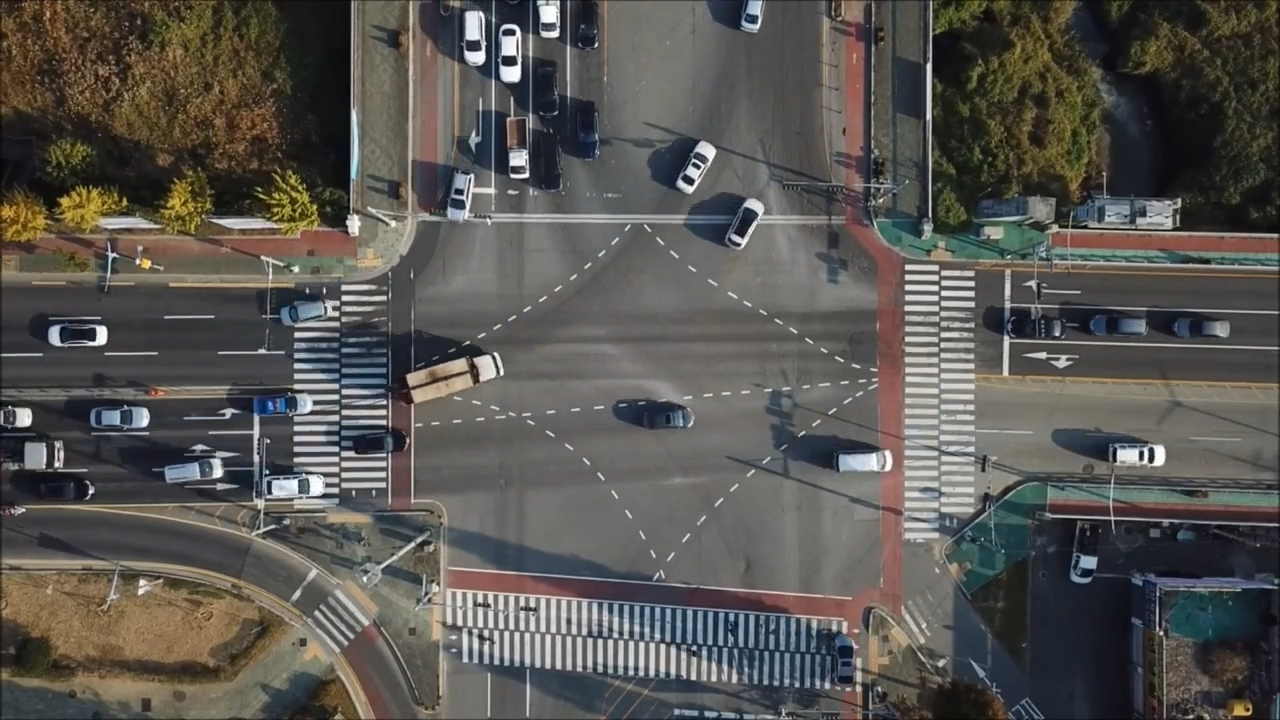car: (390, 348, 505, 406), (668, 138, 719, 193), (721, 192, 765, 250), (1, 434, 65, 472), (1067, 521, 1097, 586), (252, 391, 313, 420), (492, 21, 519, 85), (47, 322, 108, 350), (165, 456, 224, 484), (535, 124, 560, 189), (445, 168, 473, 226), (262, 473, 326, 498), (1002, 318, 1066, 342), (91, 405, 151, 430), (505, 117, 529, 179), (532, 60, 557, 119), (1110, 442, 1169, 467), (1091, 315, 1152, 339), (352, 428, 410, 453), (460, 10, 484, 68), (277, 298, 332, 323), (832, 450, 893, 472), (39, 478, 97, 501), (574, 102, 596, 162), (1169, 318, 1234, 338), (644, 406, 697, 429), (834, 633, 856, 688), (573, 1, 595, 50), (739, 1, 768, 34), (533, 1, 559, 36), (1, 404, 35, 429)
